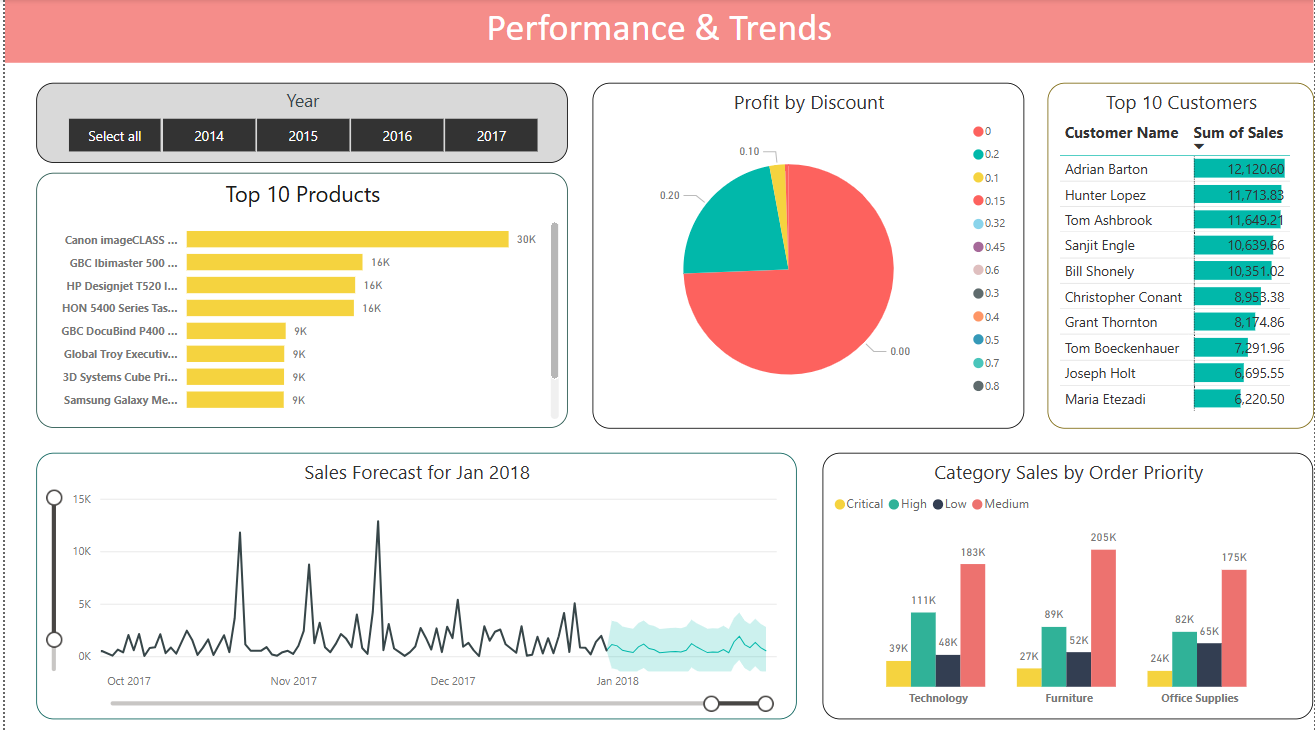

The dashboard page shown, as its layout file describes it:
{"tool":"powerbi","page":{"name":"Performance & Trends","canvas":[1280,720],"ordinal":1},"visuals":[{"type":"clusteredColumnChart","title":"Category Sales by Order Priority","fields":{"Y":["Superstore Sales Data.Sales"],"Series":["Superstore Sales Data.Order Priority"],"Category":["Superstore Sales Data.Category"]},"box":[800.2,444.2,480.1,260.7],"z":1000},{"type":"tableEx","title":"Top 10 Customers","fields":{"Values":["Superstore Sales Data.Customer Name","Superstore Sales Data.Sales"]},"box":[1019.5,81.4,260.7,338],"z":2000},{"type":"lineChart","title":"Sales Forecast for Jan 2018","fields":{"Y":["Superstore Sales Data.Sales"],"Category":["Superstore Sales Data.Order Date"]},"box":[30.4,444.2,743.6,260.7],"z":2001},{"type":"pieChart","title":"Profit by Discount","fields":{"Y":["Superstore Sales Data.Profit"],"Category":["Superstore Sales Data.Discount"]},"box":[575.3,81.4,422.2,338],"z":2002},{"type":"slicer","title":"Year","fields":{"Values":["Superstore Sales Data.Order Date.Variation.Date Hierarchy.Year"]},"box":[30.4,81.4,520.1,78.6],"z":2003},{"type":"clusteredBarChart","title":"Top 10 Products","fields":{"Category":["Superstore Sales Data.Product Name"],"Y":["Superstore Sales Data.Sales"]},"box":[30.4,169.7,520.1,249.7],"z":2004},{"type":"textbox","box":[0,0,1280.3,62.1],"z":2005}]}

Visuals, with their boxes in screenshot pixels (x1, y1, x2, y2), scaled from the page's 1280x720 canvas onto the 1315x732 screenshot:
"Category Sales by Order Priority" clusteredColumnChart: region(822, 452, 1314, 717)
"Top 10 Customers" tableEx: region(1047, 83, 1314, 426)
"Sales Forecast for Jan 2018" lineChart: region(31, 452, 795, 717)
"Profit by Discount" pieChart: region(591, 83, 1025, 426)
"Year" slicer: region(31, 83, 566, 163)
"Top 10 Products" clusteredBarChart: region(31, 173, 566, 426)
textbox: region(0, 0, 1314, 63)
